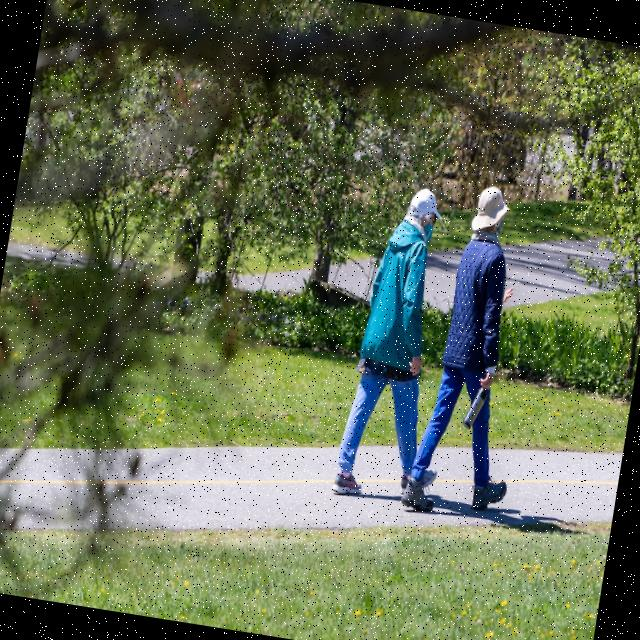Person: (401, 177, 553, 524), (332, 181, 482, 508)
